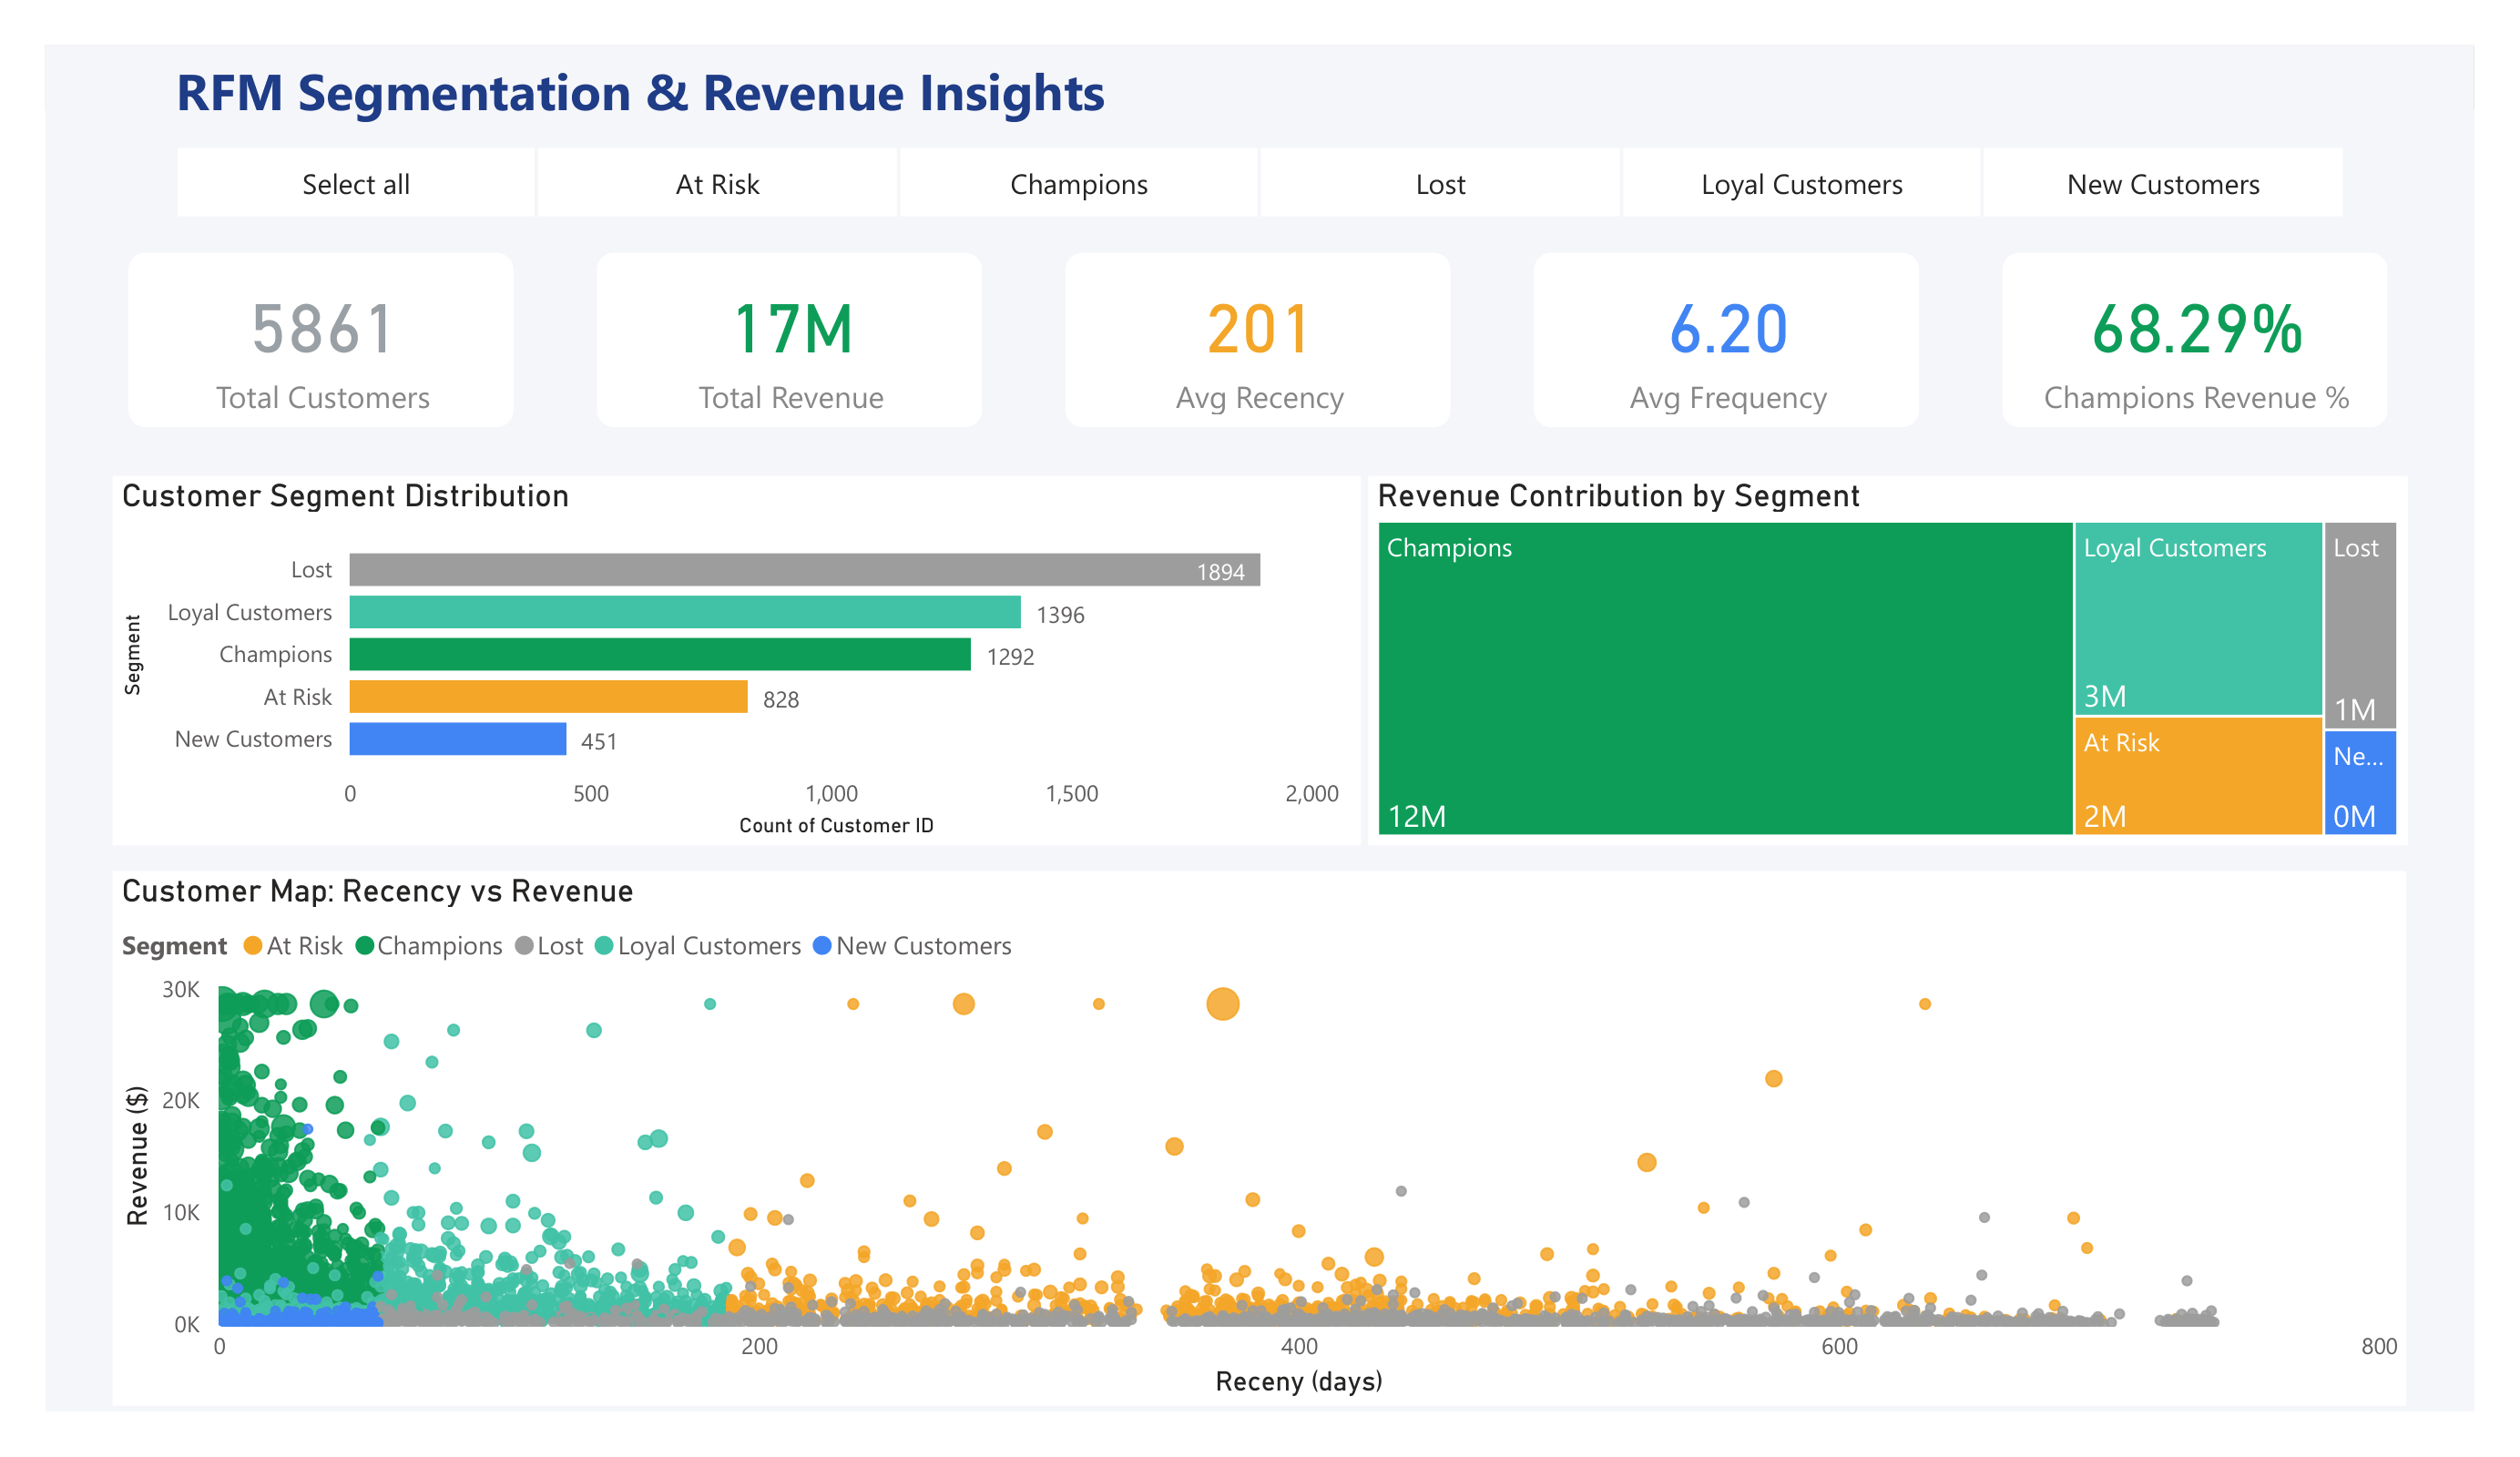

This screenshot's page, from the dashboard's own definition file:
{"tool":"powerbi","page":{"name":"Page 1","canvas":[1280,720],"ordinal":0},"visuals":[{"type":"group","id":"g1","title":"Group 1","box":[43.7,109.2,1191,92.4],"z":0},{"type":"card","fields":{"Values":["rfm_result_pbi.Total Customers"]},"box":[43.7,109.2,203.2,92.4],"z":0,"group":"g1"},{"type":"card","fields":{"Values":["rfm_result_pbi.Total Revenue"]},"box":[290.6,109.2,203.2,92.4],"z":1000,"group":"g1"},{"type":"clusteredBarChart","title":"Customer Segment Distribution","fields":{"Y":["Count(rfm_result_pbi.Customer ID)"],"Category":["rfm_result_pbi.Segment"]},"box":[35.3,226.8,658.5,194.9],"z":1000},{"type":"card","fields":{"Values":["rfm_result_pbi.Avg Recency"]},"box":[537.6,109.2,203.2,92.4],"z":2000,"group":"g1"},{"type":"treemap","title":"Revenue Contribution by Segment","fields":{"Group":["rfm_result_pbi.Segment"],"Values":["Sum(rfm_result_pbi.Monetary)"]},"box":[697.1,226.8,547.6,194.9],"z":2000},{"type":"card","fields":{"Values":["rfm_result_pbi.Avg Frequency"]},"box":[784.5,109.2,203.2,92.4],"z":3000,"group":"g1"},{"type":"scatterChart","title":"Customer Map: Recency vs Revenue","fields":{"X":["Sum(rfm_result_pbi.Recency)"],"Size":["Sum(rfm_result_pbi.Frequency)"],"Series":["rfm_result_pbi.Segment"],"Category":["rfm_result_pbi.Customer ID"],"Y":["Sum(rfm_result_pbi.Monetary_capped)"]},"box":[35.3,435.1,1209.4,282.2],"z":3000},{"type":"slicer","fields":{"Values":["rfm_result_pbi.Segment"]},"box":[43.7,47,1191,50.4],"z":4000},{"type":"card","fields":{"Values":["rfm_result_pbi.Champions Revenue %"]},"box":[1031.5,109.2,203.2,92.4],"z":4000,"group":"g1"},{"type":"textbox","box":[63,0,522.4,55.4],"z":5000}]}

Visuals, with their boxes on the page's 1280x720 design canvas (x1, y1, x2, y2). These are canvas units, not pixel positions in the 2520x1457 screenshot, which may show the page scaled, cropped or inside an application window:
"Group 1" group: {"left": 44, "top": 109, "right": 1235, "bottom": 202}
card - rfm_result_pbi.Total Customers: {"left": 44, "top": 109, "right": 247, "bottom": 202}
card - rfm_result_pbi.Total Revenue: {"left": 291, "top": 109, "right": 494, "bottom": 202}
"Customer Segment Distribution" clusteredBarChart: {"left": 35, "top": 227, "right": 694, "bottom": 422}
card - rfm_result_pbi.Avg Recency: {"left": 538, "top": 109, "right": 741, "bottom": 202}
"Revenue Contribution by Segment" treemap: {"left": 697, "top": 227, "right": 1245, "bottom": 422}
card - rfm_result_pbi.Avg Frequency: {"left": 784, "top": 109, "right": 988, "bottom": 202}
"Customer Map: Recency vs Revenue" scatterChart: {"left": 35, "top": 435, "right": 1245, "bottom": 717}
slicer - rfm_result_pbi.Segment: {"left": 44, "top": 47, "right": 1235, "bottom": 97}
card - rfm_result_pbi.Champions Revenue %: {"left": 1032, "top": 109, "right": 1235, "bottom": 202}
textbox: {"left": 63, "top": 0, "right": 585, "bottom": 55}
